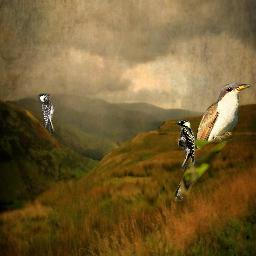Cuckoo: (171, 81, 252, 203)
Woodpecker: (174, 120, 196, 171), (37, 93, 57, 135)
